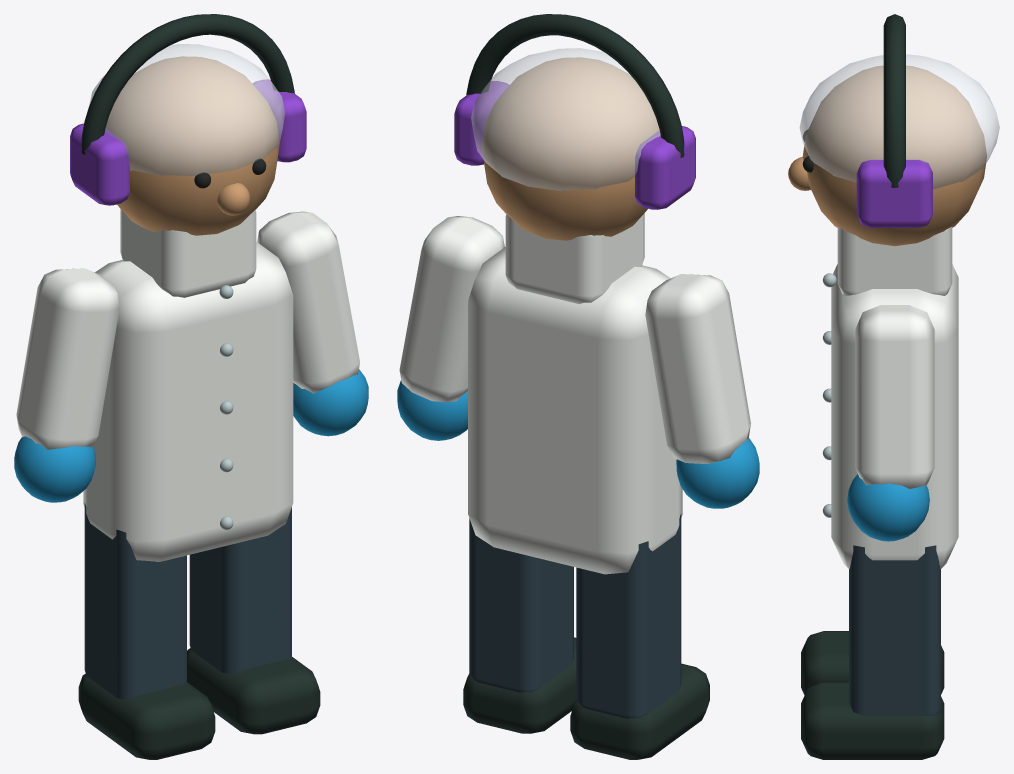
The model's file is crew-4.glb.
3 renders of one model, left to right at view 1: azimuth 30°, elevation 25°; view 2: azimuth 150°, elevation 25°; view 3: azimuth 270°, elevation 25°, orthographic. The views are drawn at different scales.
Parts seen in each view (by area): view 1: CrewMember, ArmLeft, ArmRight; view 2: CrewMember, ArmLeft, ArmRight; view 3: CrewMember, ArmRight.
Part boxes in pixels (left/top/right/bottom): CrewMember: left=70, top=14, right=320, bottom=759; ArmLeft: left=14, top=268, right=119, bottom=502; ArmRight: left=257, top=211, right=368, bottom=436; CrewMember: left=454, top=14, right=709, bottom=759; ArmLeft: left=645, top=274, right=759, bottom=508; ArmRight: left=397, top=216, right=504, bottom=440; CrewMember: left=788, top=14, right=999, bottom=759; ArmRight: left=847, top=305, right=934, bottom=541.
Bounding box in the file's own units: 1.25 × 2.42 × 0.666.
